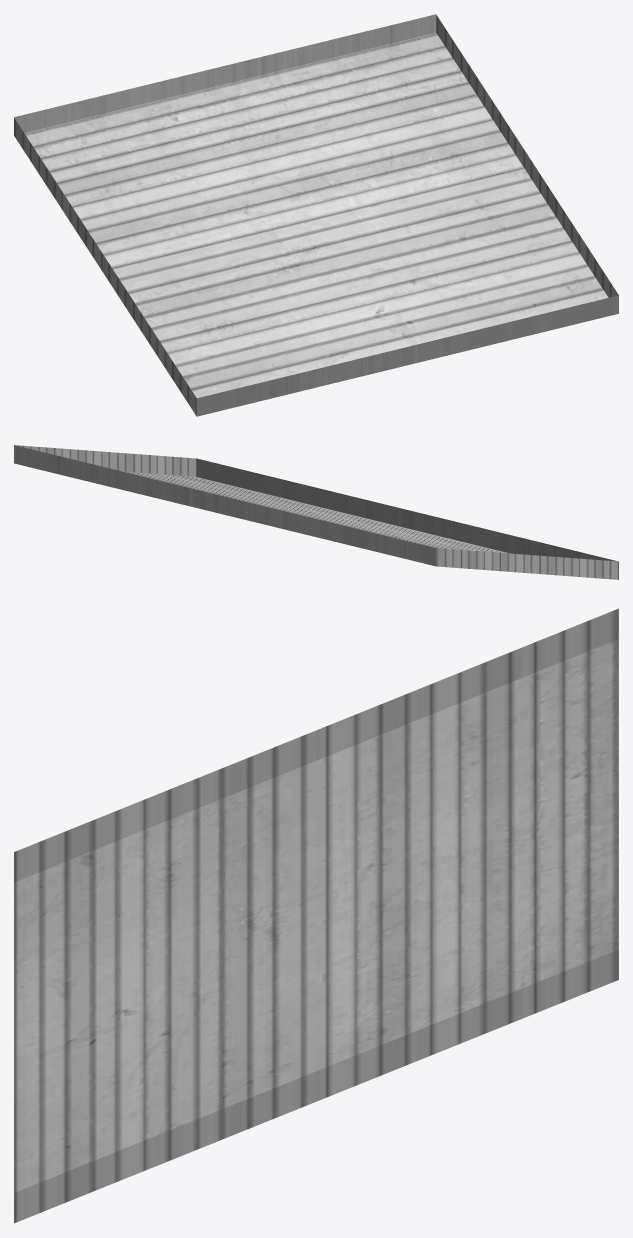
Rendered from Neon_Ceiling_Stairs_S.FBX.
The picture shows the model from 3 angles, top to bottom: view 1: azimuth 30°, elevation 25°; view 2: azimuth 150°, elevation 25°; view 3: azimuth 270°, elevation 25°; orthographic projection. The views are drawn at different scales.
Visible parts, largest first — view 1: Neon_Ceiling_Stairs_S; view 2: Neon_Ceiling_Stairs_S; view 3: Neon_Ceiling_Stairs_S.
Part boxes in pixels (left/top/right/bottom): Neon_Ceiling_Stairs_S: left=14, top=14, right=618, bottom=416; Neon_Ceiling_Stairs_S: left=14, top=445, right=618, bottom=579; Neon_Ceiling_Stairs_S: left=14, top=608, right=618, bottom=1223.
Size of the model in its own units: 6 by 2.25 by 4.5.
